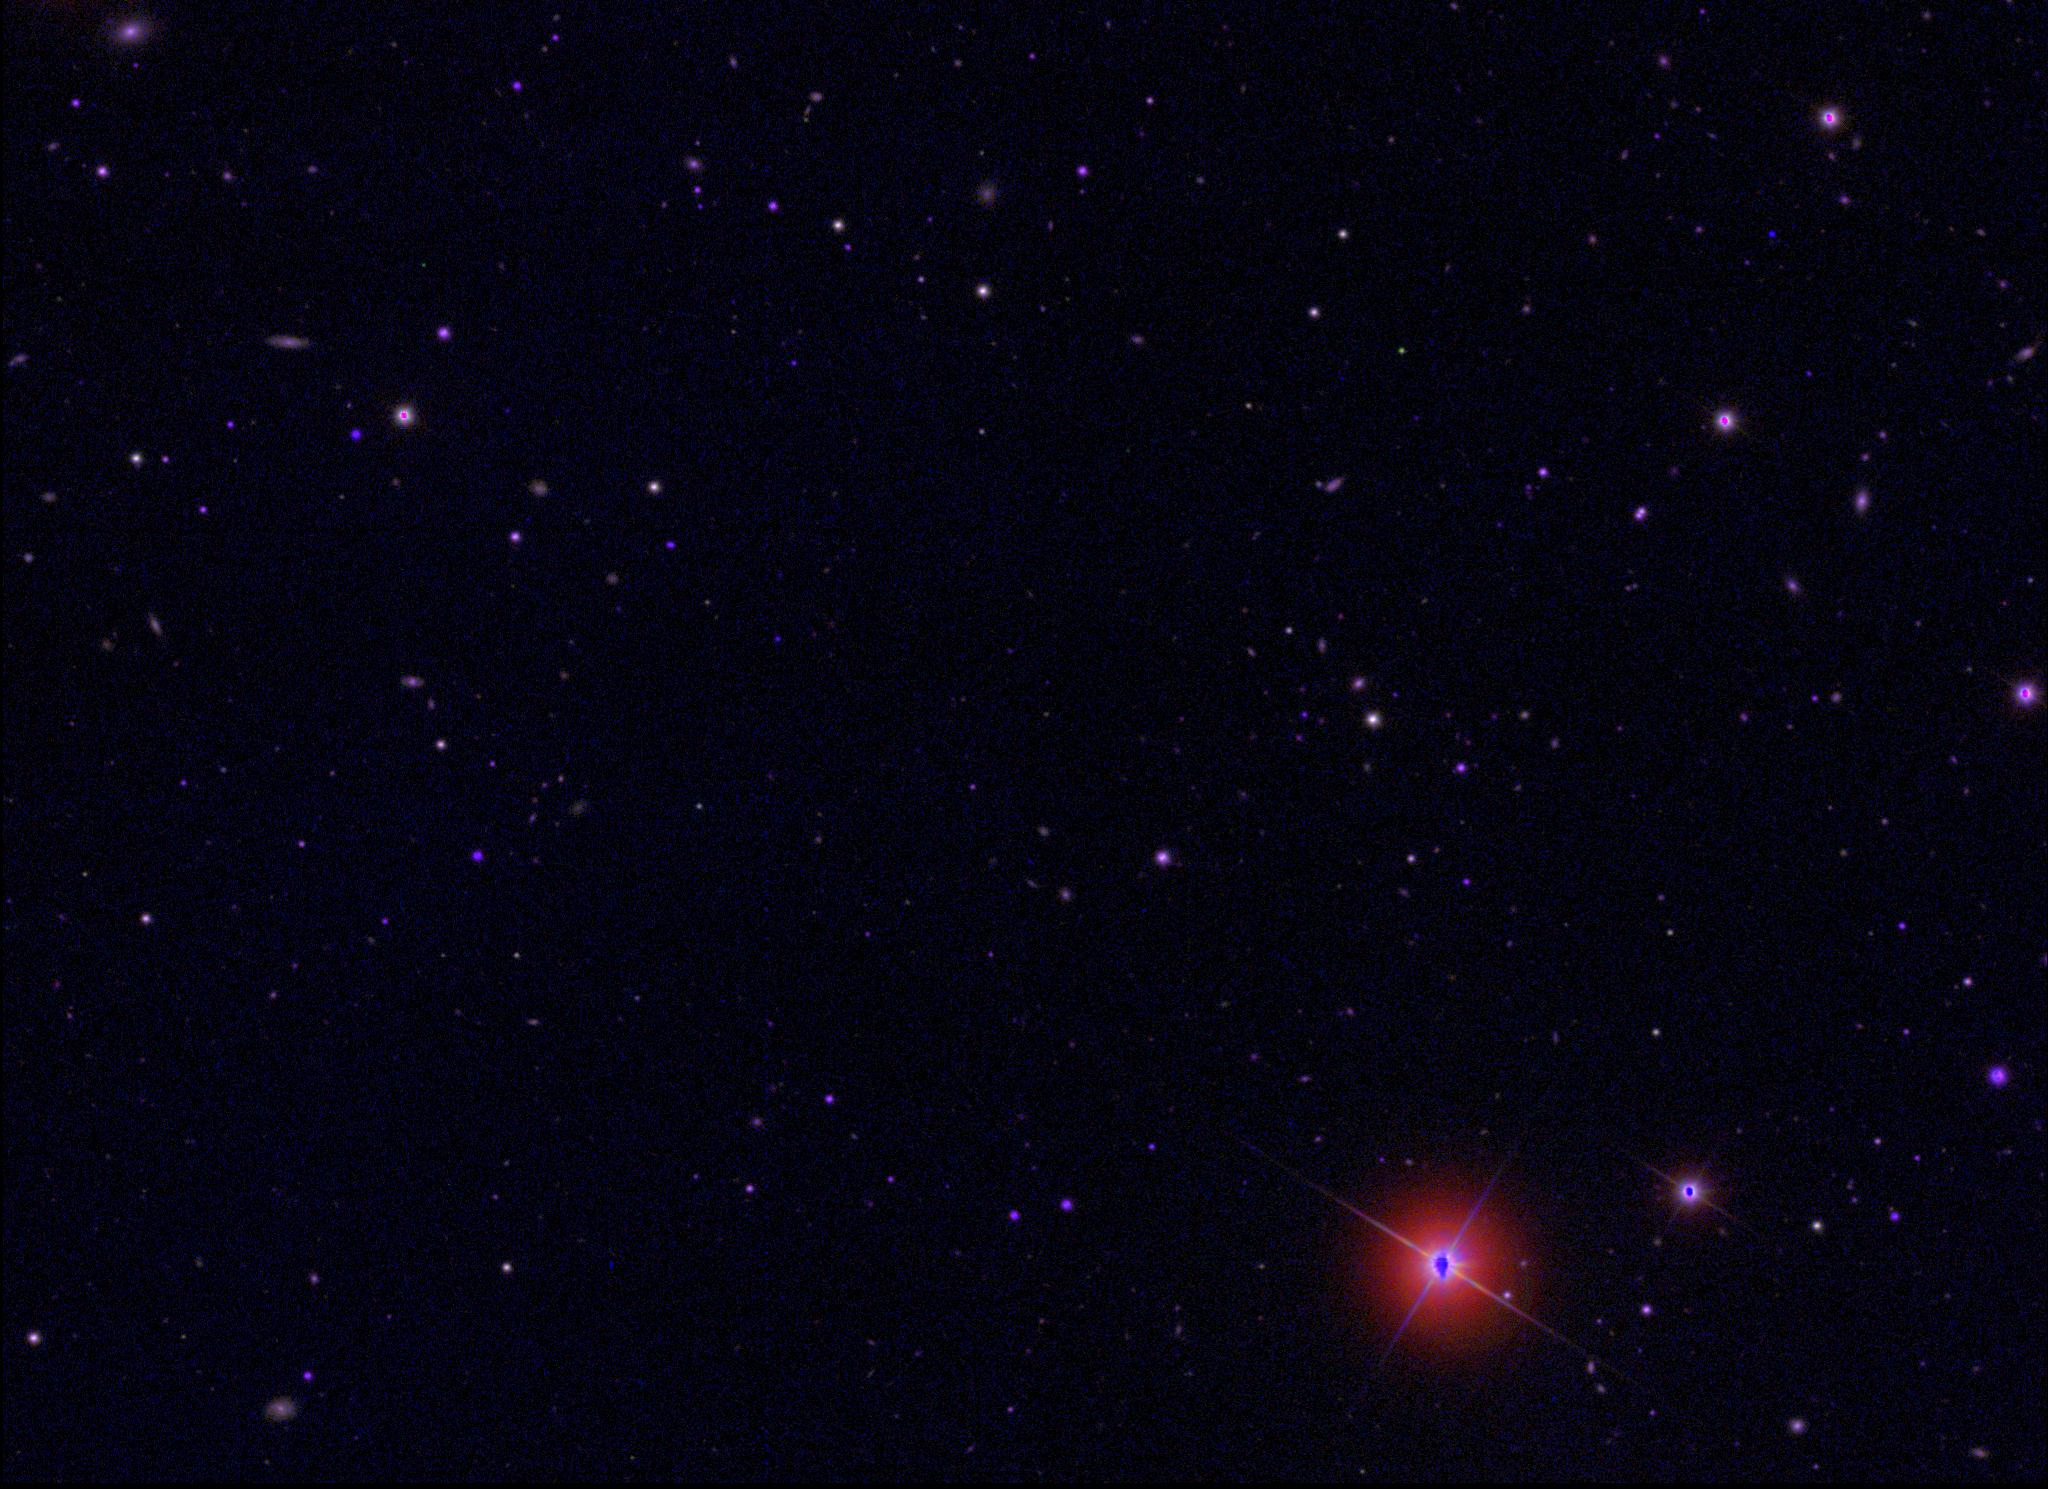L: (1765, 227, 1779, 240)
